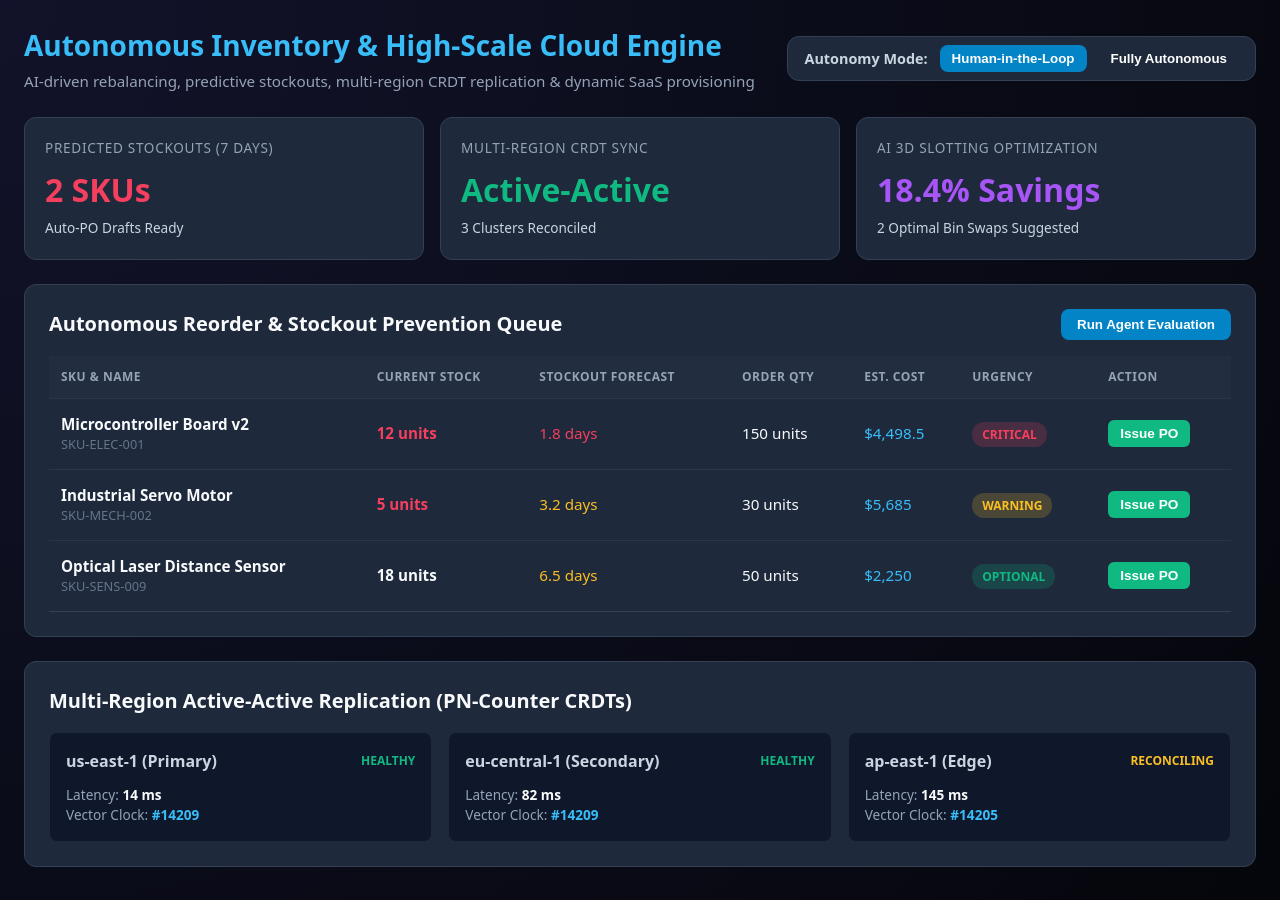
Scenario: AutonomousInventoryDashboard › updates status to "✓ PO Issued" when "Issue PO" is clicked
Click the button with aria-label "Issue PO for".
click(1149, 434)  # box [1108,420,1190,447]
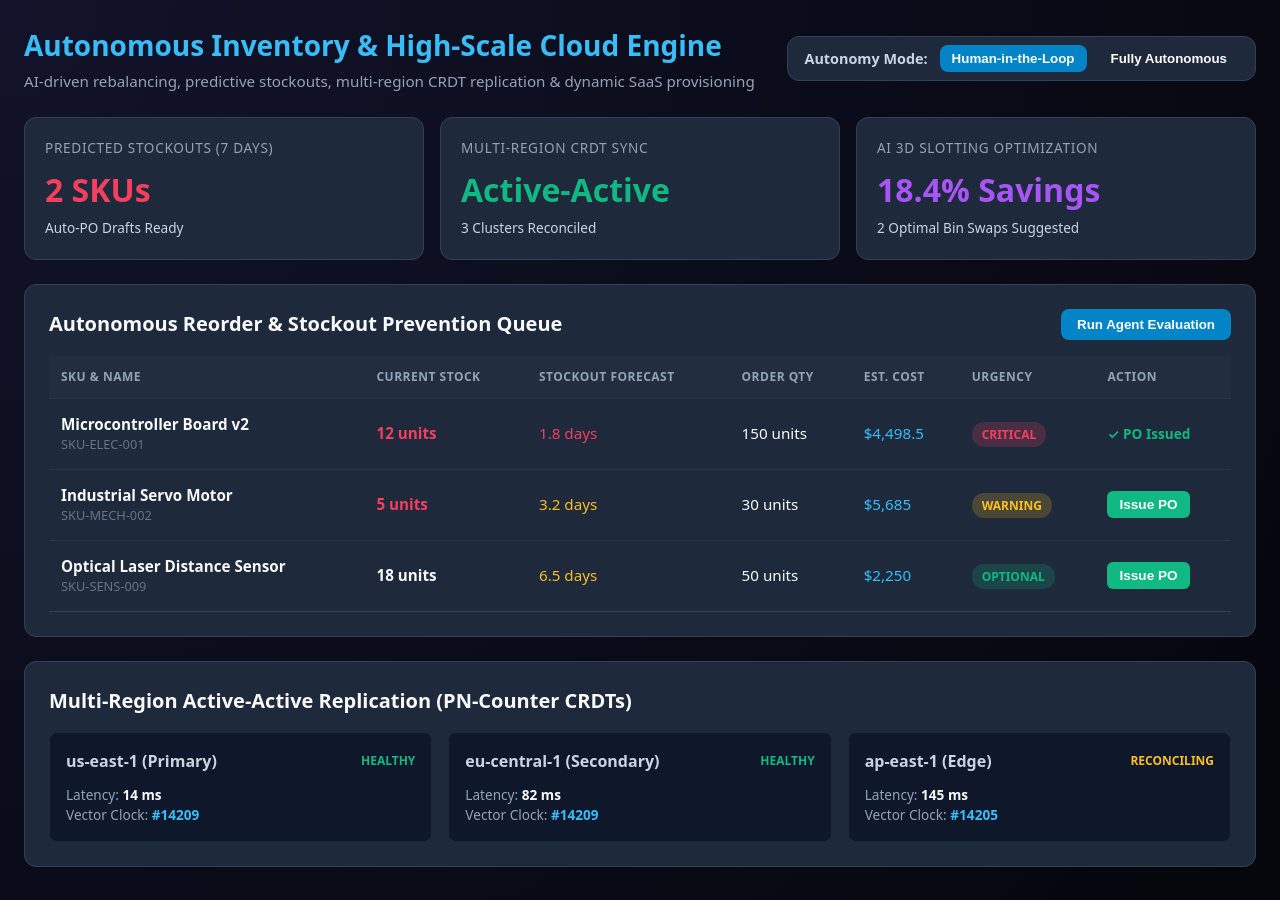
Expected: the text "✓ PO Issued" is shown, [1108,424,1190,443]
